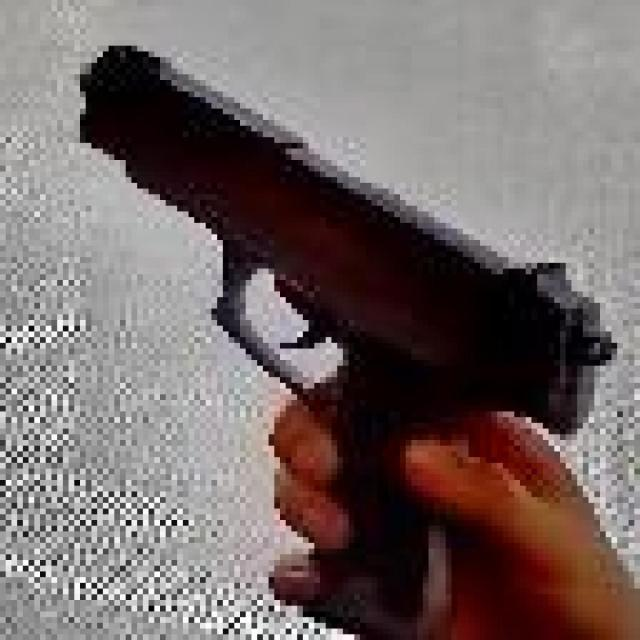pistol: (60, 29, 628, 640)
